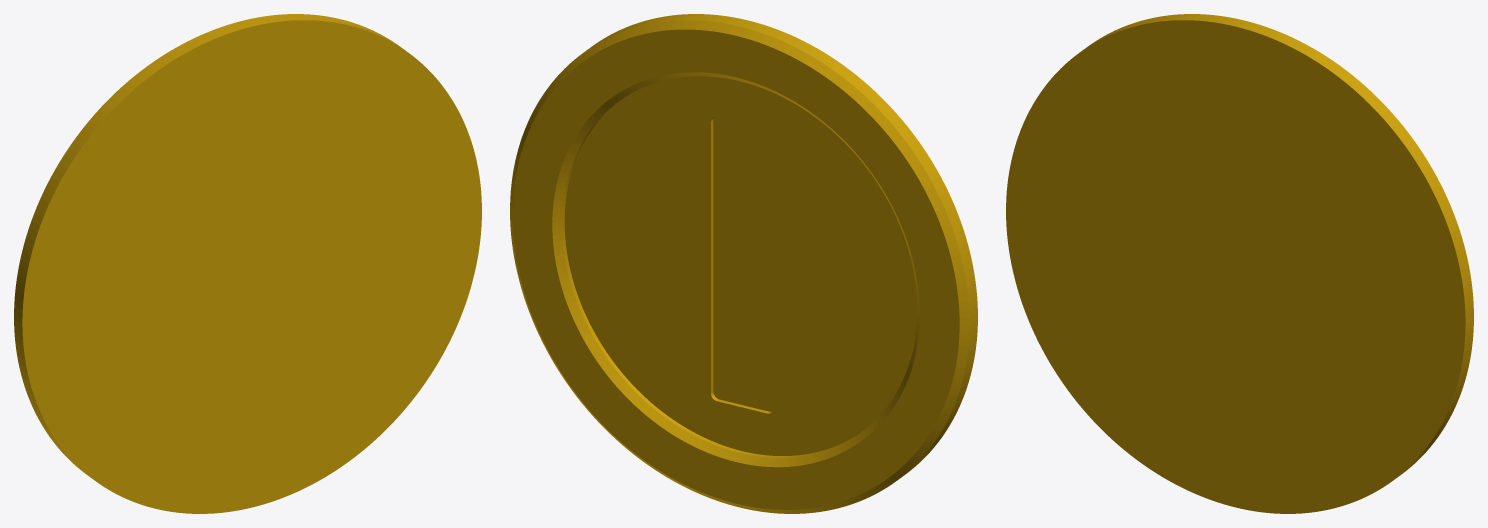
File: Coin.obj
The picture shows the model from 3 angles, left to right: view 1: azimuth 30°, elevation 25°; view 2: azimuth 150°, elevation 25°; view 3: azimuth 330°, elevation 25°; orthographic projection.
Parts seen in each view (by area): view 1: super_mario_coin_coaster_v1; view 2: super_mario_coin_coaster_v1; view 3: super_mario_coin_coaster_v1.
Part boxes in pixels (x1,y1,x2,y2): super_mario_coin_coaster_v1: [14, 14, 481, 513]; super_mario_coin_coaster_v1: [510, 14, 977, 513]; super_mario_coin_coaster_v1: [1006, 14, 1473, 513].
Bounding box in the file's own units: 11 × 11 × 0.5.
